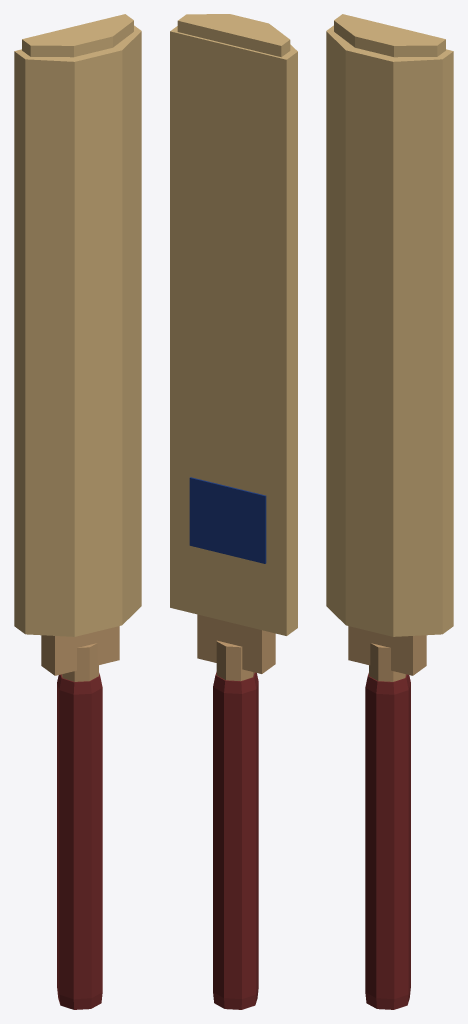
File: bat.glb
3 views of the same model, side by side, from view 1: azimuth 30°, elevation 25°; view 2: azimuth 150°, elevation 25°; view 3: azimuth 330°, elevation 25° (orthographic).
Visible parts, largest first — view 1: bat; view 2: bat; view 3: bat.
Part boxes in pixels (x1,y1,x2,y2): bat: (14, 14, 141, 1009); bat: (170, 14, 297, 1009); bat: (326, 14, 453, 1009).
Bounding box in the file's own units: 0.108 × 0.86 × 0.049.
